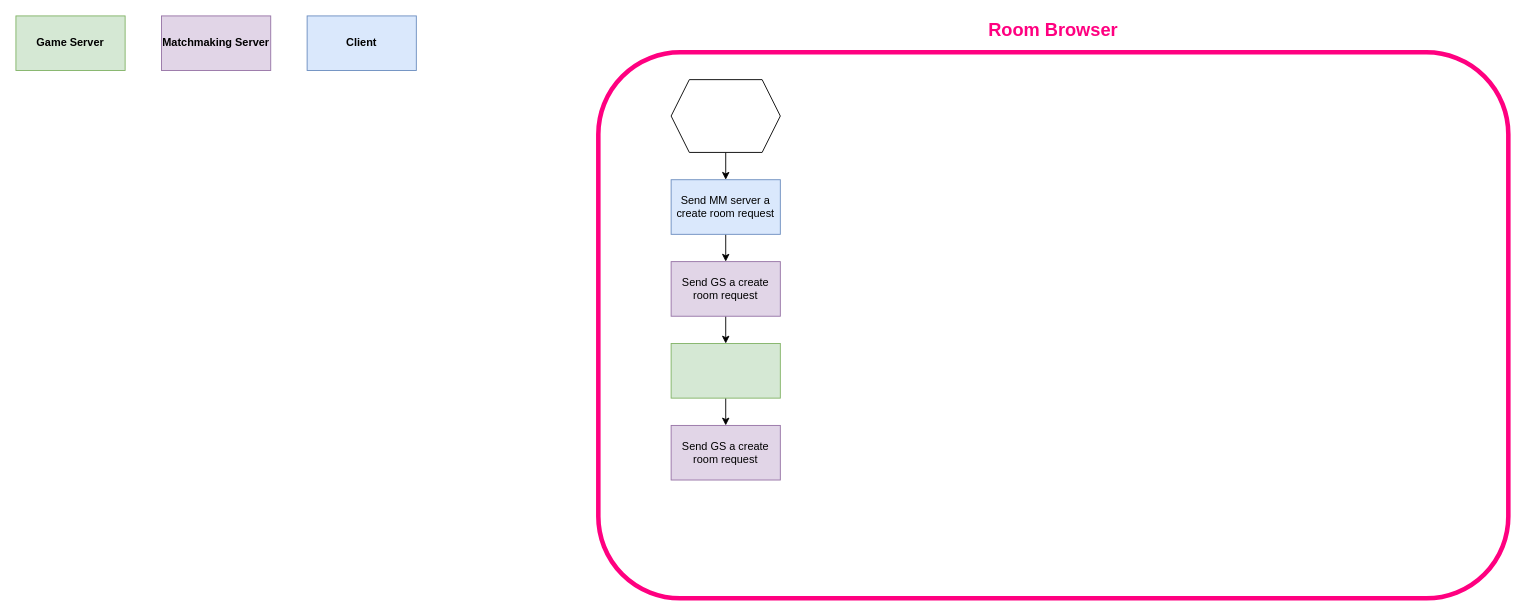
Image size: 1526x616. Some labels were removed from this diagram. The box of each missing label's shape, as (x1, y1, x2, y2) in pixels:
Create Room Button: (670, 79, 780, 152)
Try and create room, if successful, return url: (670, 343, 780, 398)
